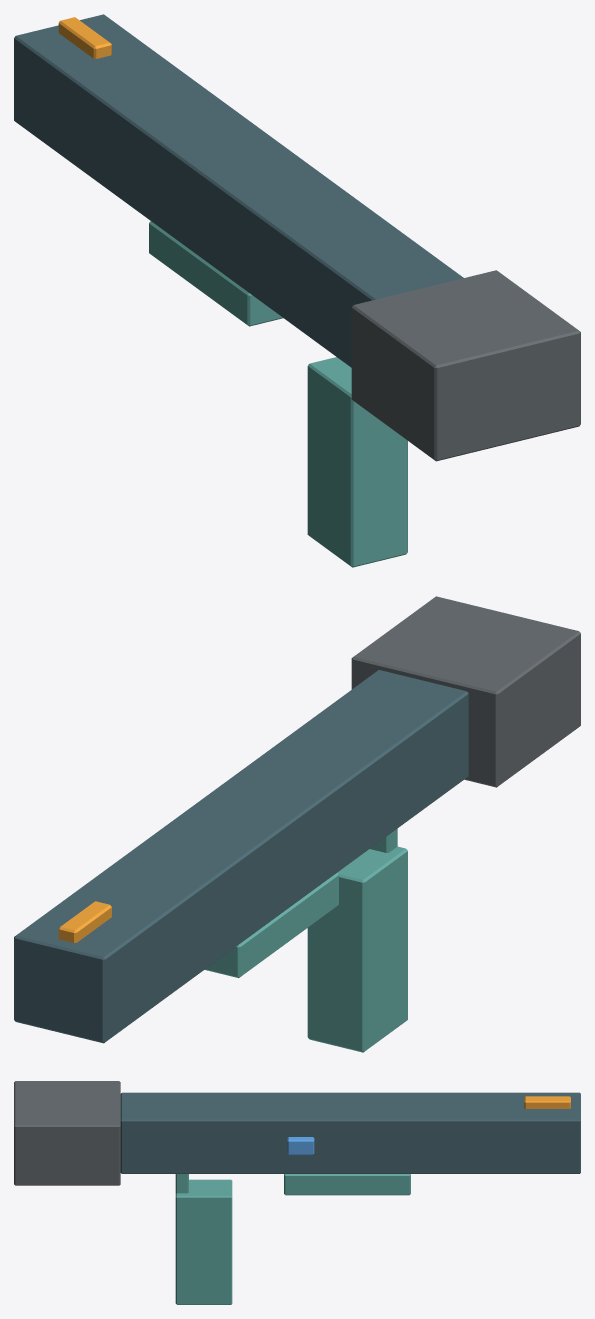
Rendered from vanilla_first_person_fixture_slim.glb.
The picture shows the model from 3 angles, top to bottom: view 1: azimuth 30°, elevation 25°; view 2: azimuth 150°, elevation 25°; view 3: azimuth 270°, elevation 25°; orthographic projection. The views are drawn at different scales.
Parts seen in each view (by area): view 1: gauge_long_body, gauge_rear_support, gauge_primary_handle, gauge_forward_support, gauge_forward_axis; view 2: gauge_long_body, gauge_rear_support, gauge_primary_handle, gauge_forward_support, gauge_forward_axis; view 3: gauge_long_body, gauge_rear_support, gauge_primary_handle, gauge_forward_support, gauge_forward_axis, gauge_side_axis.
Part boxes in pixels (box(x1,y1,x2,y2)): gauge_long_body: box(14, 14, 463, 367); gauge_rear_support: box(351, 270, 580, 461); gauge_primary_handle: box(307, 357, 407, 567); gauge_forward_support: box(149, 221, 283, 326); gauge_forward_axis: box(58, 17, 111, 58); gauge_long_body: box(14, 670, 468, 1043); gauge_rear_support: box(351, 596, 580, 787); gauge_primary_handle: box(307, 846, 407, 1052); gauge_forward_support: box(204, 872, 338, 977); gauge_forward_axis: box(58, 901, 111, 942); gauge_long_body: box(120, 1092, 580, 1173); gauge_rear_support: box(14, 1081, 120, 1185); gauge_primary_handle: box(175, 1179, 232, 1304); gauge_forward_support: box(284, 1174, 410, 1195); gauge_forward_axis: box(524, 1096, 570, 1108); gauge_side_axis: box(287, 1137, 314, 1154).
Size of the model in its own units: 0.16 by 0.3275 by 0.85.
